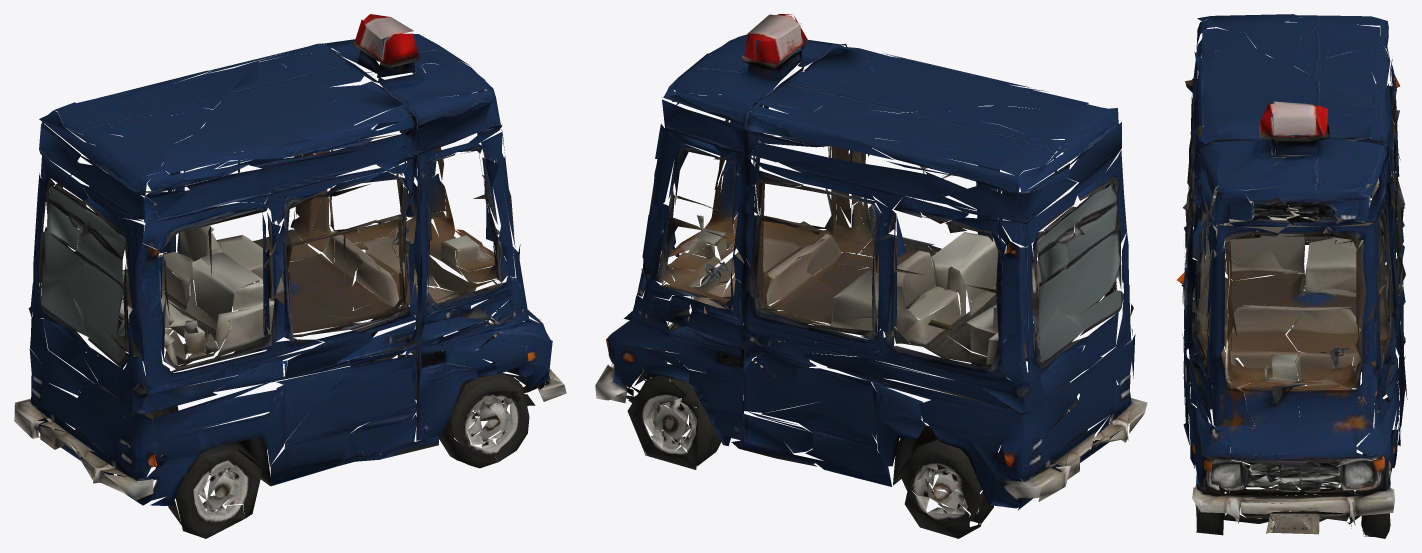
Rendered from jp_taxi.glb.
3 views of the same model, side by side, from view 1: azimuth 30°, elevation 25°; view 2: azimuth 150°, elevation 25°; view 3: azimuth 270°, elevation 25° (orthographic). The views are drawn at different scales.
Visible parts, largest first — view 1: tripo_node_49e88560-f12f-4cc0-8790-a90905a2cd41; view 2: tripo_node_49e88560-f12f-4cc0-8790-a90905a2cd41; view 3: tripo_node_49e88560-f12f-4cc0-8790-a90905a2cd41.
Boxes of the visible parts, x1,y1,x2,y2 form: tripo_node_49e88560-f12f-4cc0-8790-a90905a2cd41: [14, 14, 566, 538]; tripo_node_49e88560-f12f-4cc0-8790-a90905a2cd41: [595, 14, 1147, 538]; tripo_node_49e88560-f12f-4cc0-8790-a90905a2cd41: [1177, 14, 1407, 538].
Bounding box in the file's own units: 2.42 × 2.11 × 1.1.
Materials: 1 (1 with a texture image).
